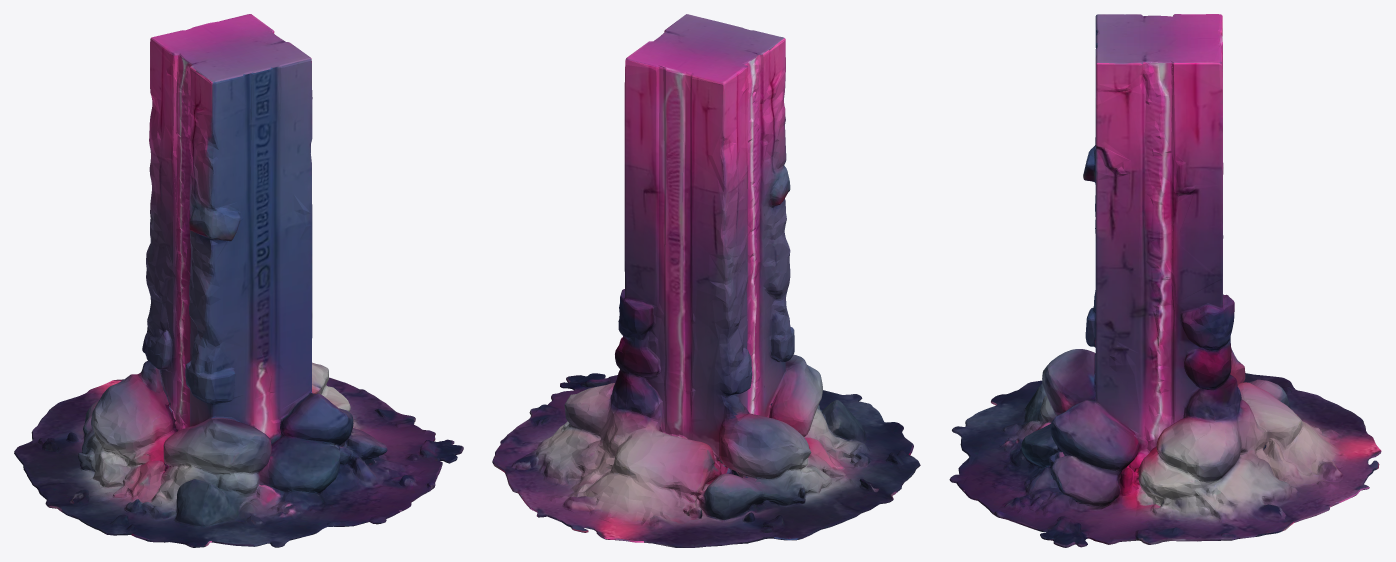
File: solitude-pillar-11-generated-2026-04-19T23-54-22-571Z.medium.glb
3 views of the same model, side by side, from view 1: azimuth 30°, elevation 25°; view 2: azimuth 150°, elevation 25°; view 3: azimuth 270°, elevation 25° (orthographic). The views are drawn at different scales.
Visible parts, largest first — view 1: temp_mesh.ply; view 2: temp_mesh.ply; view 3: temp_mesh.ply.
Part boxes in pixels (x1,y1,x2,y2): temp_mesh.ply: (14, 14, 463, 547); temp_mesh.ply: (492, 14, 920, 547); temp_mesh.ply: (949, 14, 1381, 547).
Bounding box in the file's own units: 1.86 × 1.97 × 1.84.
Materials: 1 (1 with a texture image).
